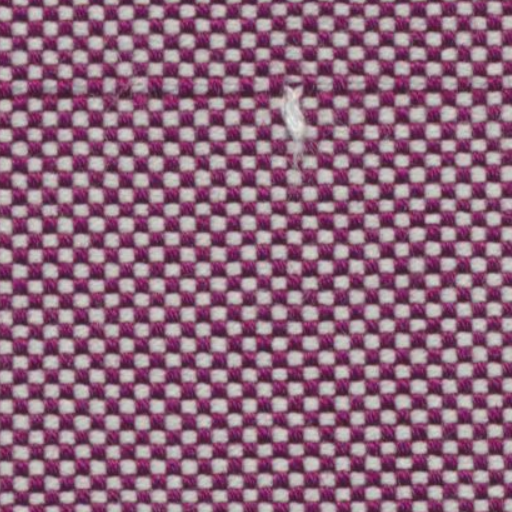DuanSha: (260, 60, 328, 171)
